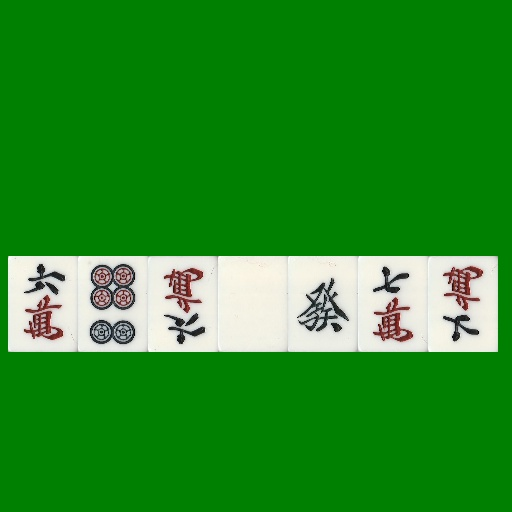6m: (8, 256, 78, 352), (148, 256, 218, 352)
6p: (78, 256, 148, 352)
7m: (358, 256, 428, 352), (428, 256, 498, 352)
hatsu: (288, 256, 358, 352)
white: (218, 256, 288, 352)
